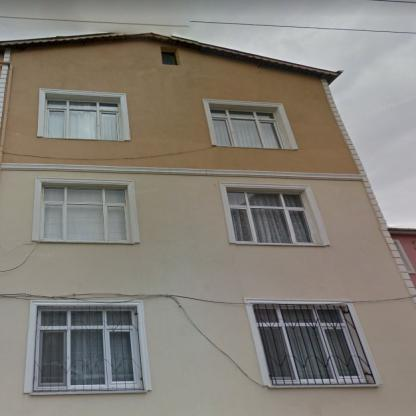window: (34, 306, 141, 389), (252, 308, 363, 382), (227, 189, 317, 243), (41, 186, 129, 240), (45, 98, 118, 140), (210, 108, 284, 148), (161, 52, 177, 64)
